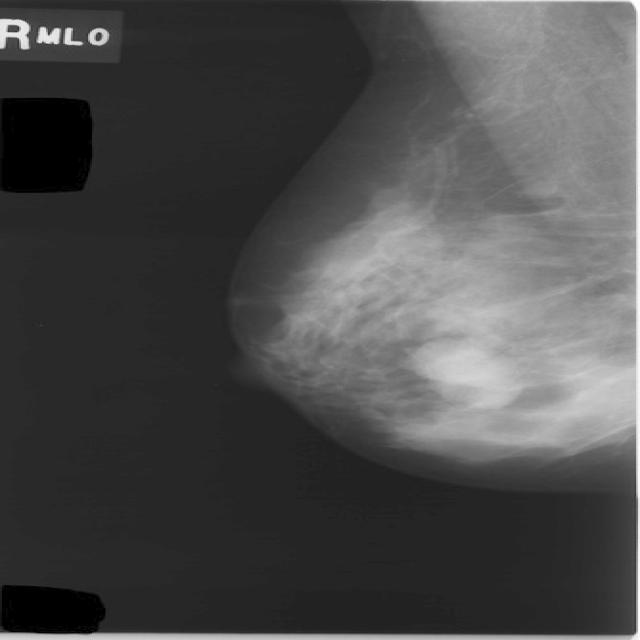tumour: (404, 337, 522, 409)
